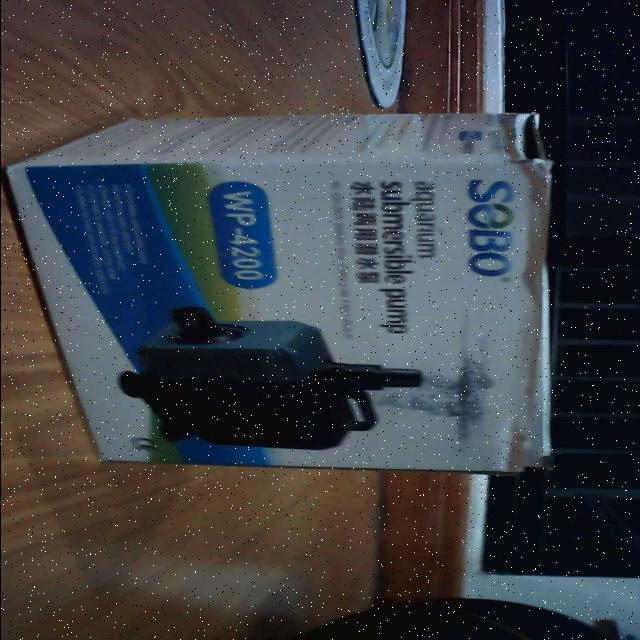SOBO_WP_4200: (1, 108, 584, 486)
